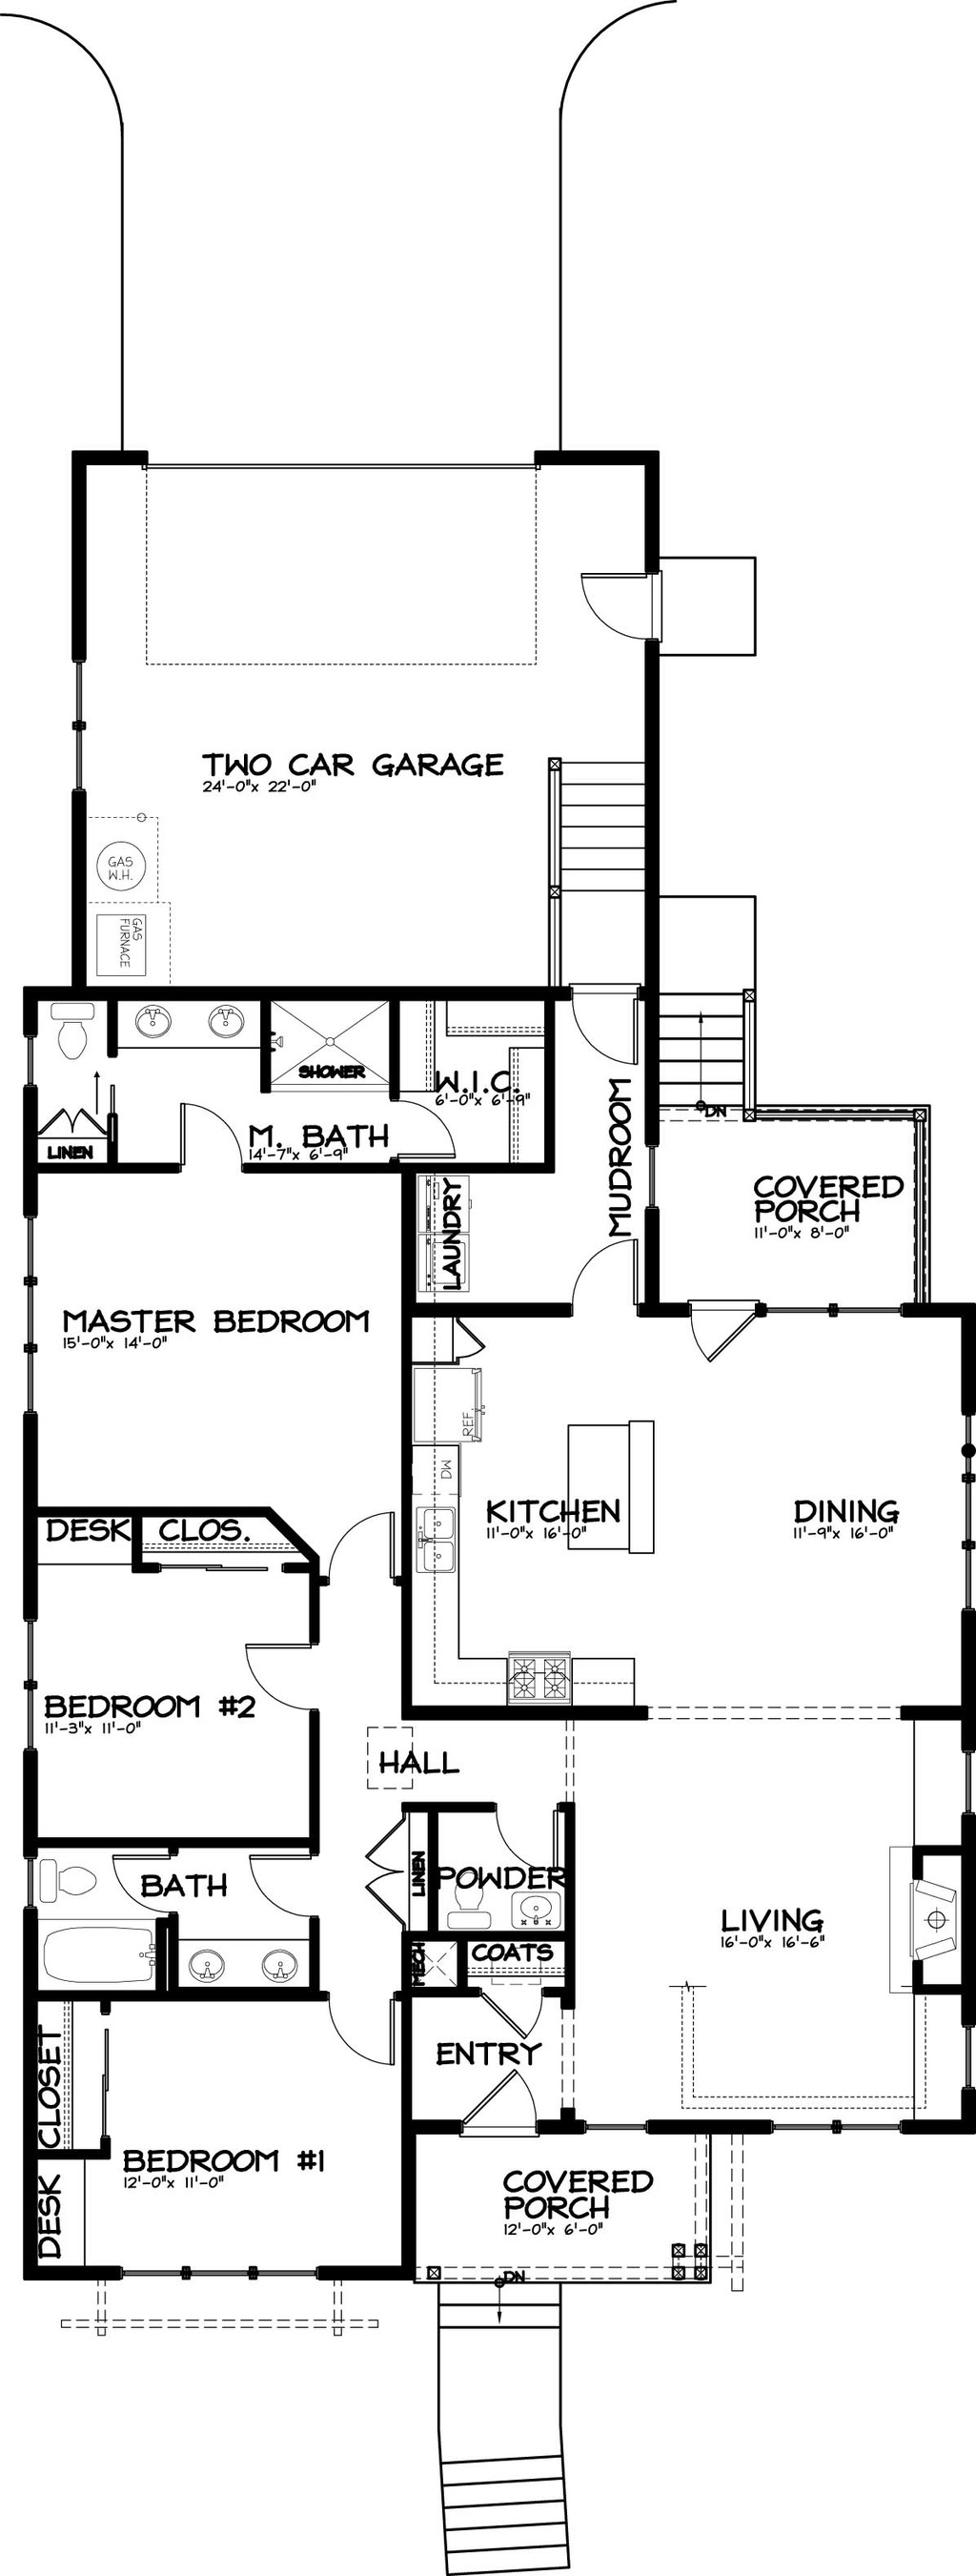door: (537, 971, 672, 1079), (347, 1797, 430, 1945), (232, 1825, 335, 1937), (680, 1285, 800, 1380), (562, 1214, 664, 1326), (442, 2057, 565, 2147), (164, 1088, 271, 1183), (299, 1497, 409, 1584), (375, 1091, 467, 1183), (228, 1628, 324, 1713), (582, 542, 652, 654), (324, 1993, 409, 2072), (108, 1845, 204, 1914)
large_sink: (41, 984, 120, 1099), (38, 1845, 117, 1914)
stairs: (419, 2270, 573, 2576), (652, 884, 787, 1122), (529, 721, 677, 912)
twin_sink: (409, 1497, 457, 1592)
window: (13, 1203, 69, 1421), (16, 1612, 61, 1750), (955, 1424, 976, 1589)
